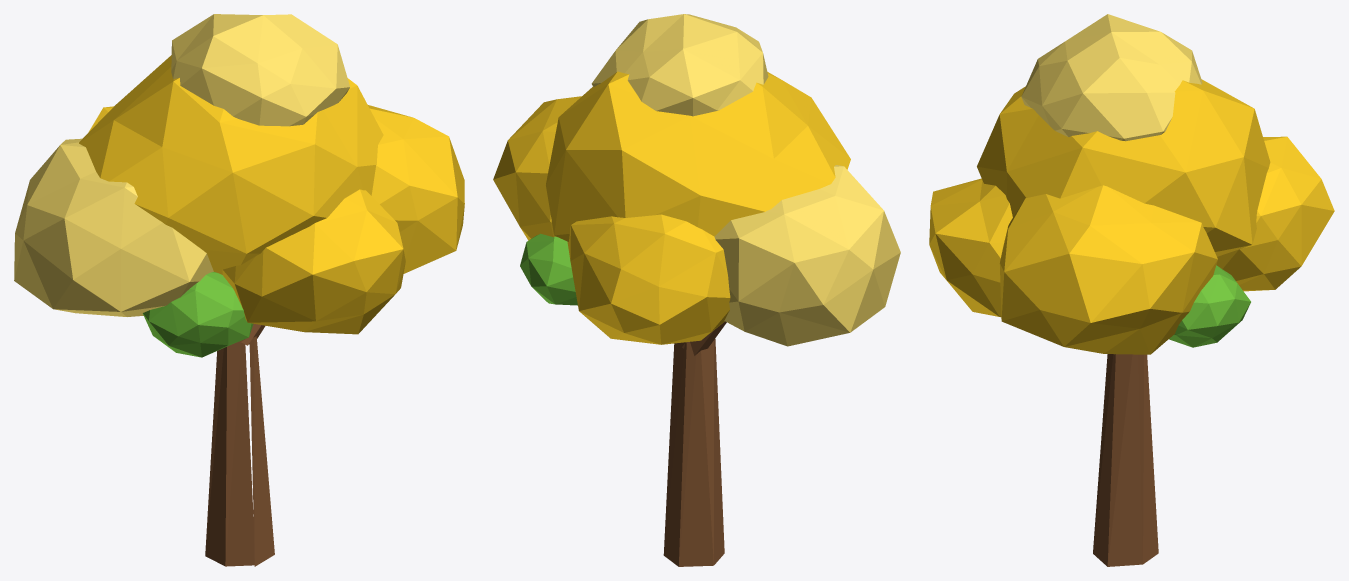
Rendered from canaguate.glb.
3 views of the same model, side by side, from view 1: azimuth 30°, elevation 25°; view 2: azimuth 150°, elevation 25°; view 3: azimuth 270°, elevation 25° (orthographic).
Visible parts, largest first — view 1: copa_1, copa_3, copa_4, copa_6, tronco, copa_2, hojas_2; view 2: copa_1, copa_3, copa_5, copa_6, tronco, copa_2, hojas_1; view 3: copa_2, copa_1, copa_6, tronco, copa_5, copa_4, hojas_1.
Part boxes in pixels (box(x1,y1,x2,y2)): copa_1: box(79, 55, 383, 274); copa_3: box(14, 138, 213, 316); copa_4: box(222, 189, 405, 334); copa_6: box(171, 14, 349, 126); tronco: box(205, 336, 274, 566); copa_2: box(368, 105, 464, 273); hojas_2: box(142, 272, 253, 357); copa_1: box(546, 71, 850, 241); copa_3: box(714, 165, 900, 346); copa_5: box(567, 214, 730, 344); copa_6: box(591, 14, 768, 116); tronco: box(663, 339, 724, 566); copa_2: box(493, 96, 581, 240); hojas_1: box(520, 233, 577, 305); copa_2: box(999, 185, 1217, 354); copa_1: box(977, 79, 1270, 256); copa_6: box(1021, 14, 1202, 141); tronco: box(1093, 354, 1158, 566); copa_5: box(1216, 136, 1334, 291); copa_4: box(929, 178, 1012, 317); hojas_1: box(1169, 265, 1250, 347).
Size of the model in its own units: 4.43 by 5.62 by 3.89.
